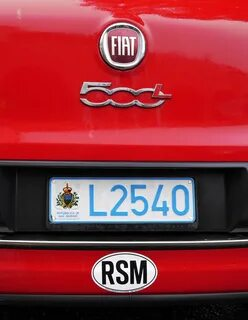number_plate: (50, 176, 196, 223)
